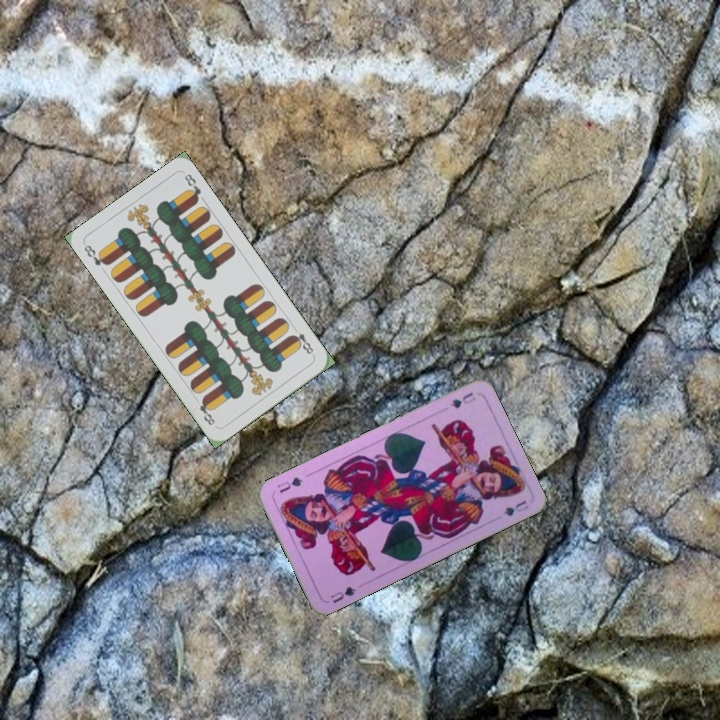E8: (287, 323, 317, 359), (80, 240, 111, 268)
GU: (326, 582, 358, 606), (446, 388, 478, 411)
